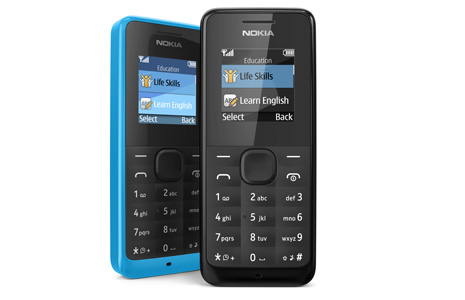Phone: (198, 7, 317, 288), (109, 14, 202, 279)
